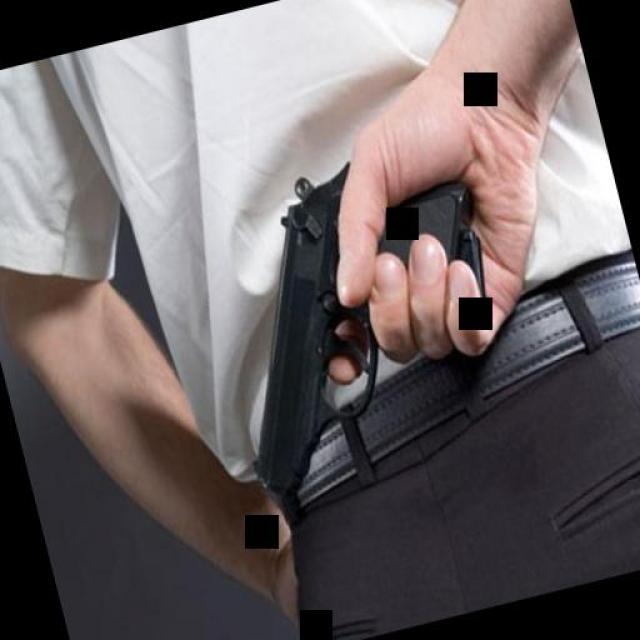gun: (179, 125, 536, 507)
